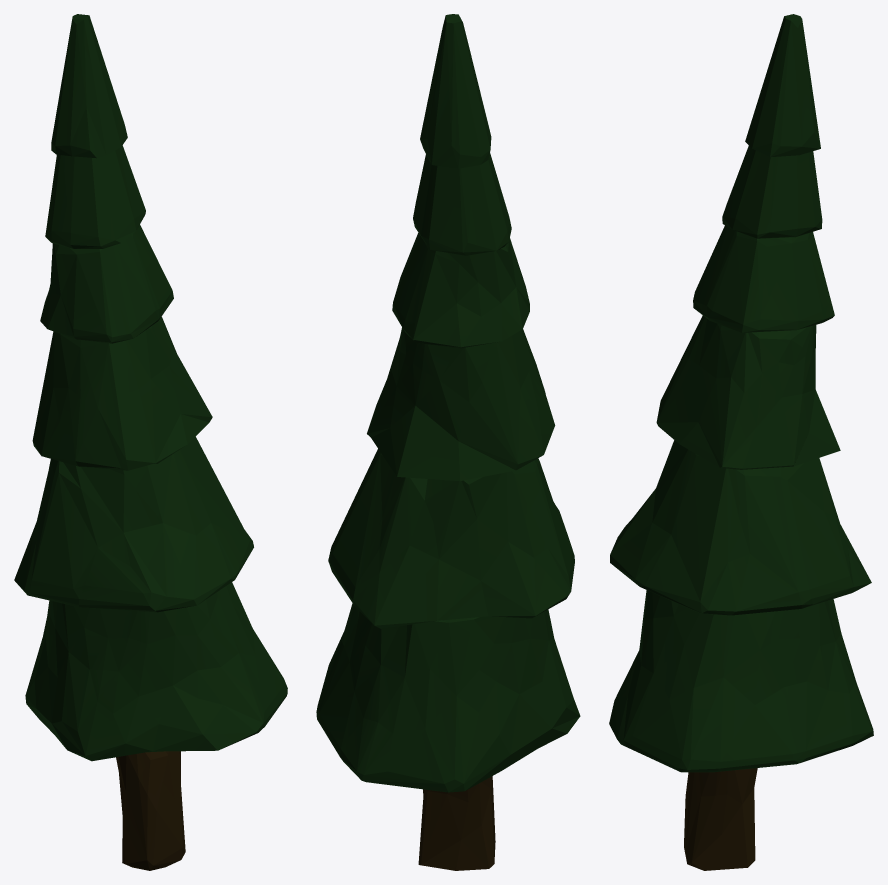
The model's file is SM_tree_25.fbx.
3 views of the same model, side by side, from view 1: azimuth 30°, elevation 25°; view 2: azimuth 150°, elevation 25°; view 3: azimuth 270°, elevation 25° (orthographic). The views are drawn at different scales.
Visible parts, largest first — view 1: tree_25; view 2: tree_25; view 3: tree_25.
Part boxes in pixels (bbox=[...]): tree_25: bbox=[14, 14, 287, 870]; tree_25: bbox=[316, 14, 580, 870]; tree_25: bbox=[609, 14, 873, 870].
Size of the model in its own units: 400 by 1330 by 385.
